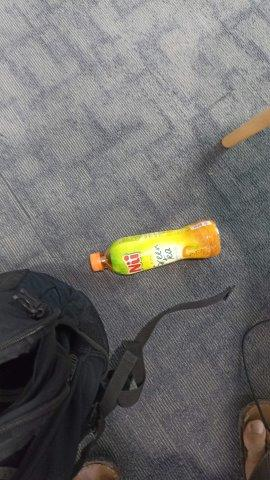botolplastik: (90, 220, 221, 275)
